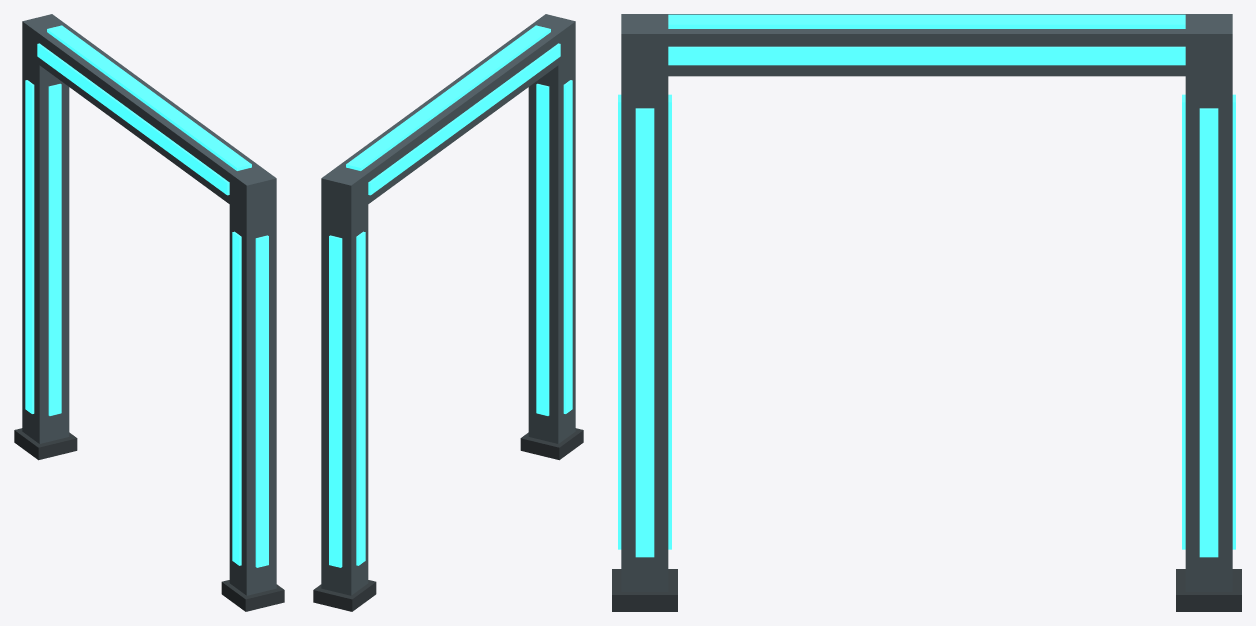
Rendered from lab_checkpoint_arch_a.glb.
3 views of the same model, side by side, from view 1: azimuth 30°, elevation 25°; view 2: azimuth 150°, elevation 25°; view 3: azimuth 270°, elevation 25° (orthographic). The views are drawn at different scales.
Parts seen in each view (by area): view 1: lab_checkpoint_arch_a, emit_arch_post_R, emit_arch_post_L, emit_arch_lintel; view 2: lab_checkpoint_arch_a, emit_arch_post_L, emit_arch_post_R, emit_arch_lintel; view 3: lab_checkpoint_arch_a, emit_arch_lintel, emit_arch_post_L, emit_arch_post_R.
Part boxes in pixels (<box>): lab_checkpoint_arch_a: <box>14,14,284,611</box>; emit_arch_post_R: <box>232,231,268,567</box>; emit_arch_post_L: <box>25,80,61,415</box>; emit_arch_lintel: <box>37,25,251,195</box>; lab_checkpoint_arch_a: <box>313,14,583,611</box>; emit_arch_post_L: <box>329,231,365,567</box>; emit_arch_post_R: <box>536,80,572,415</box>; emit_arch_lintel: <box>346,25,560,195</box>; lab_checkpoint_arch_a: <box>612,14,1241,611</box>; emit_arch_lintel: <box>668,14,1185,65</box>; emit_arch_post_L: <box>1182,94,1235,557</box>; emit_arch_post_R: <box>618,94,671,557</box>.
Bounding box in the file's own units: 0.26 × 2.72 × 2.68.
